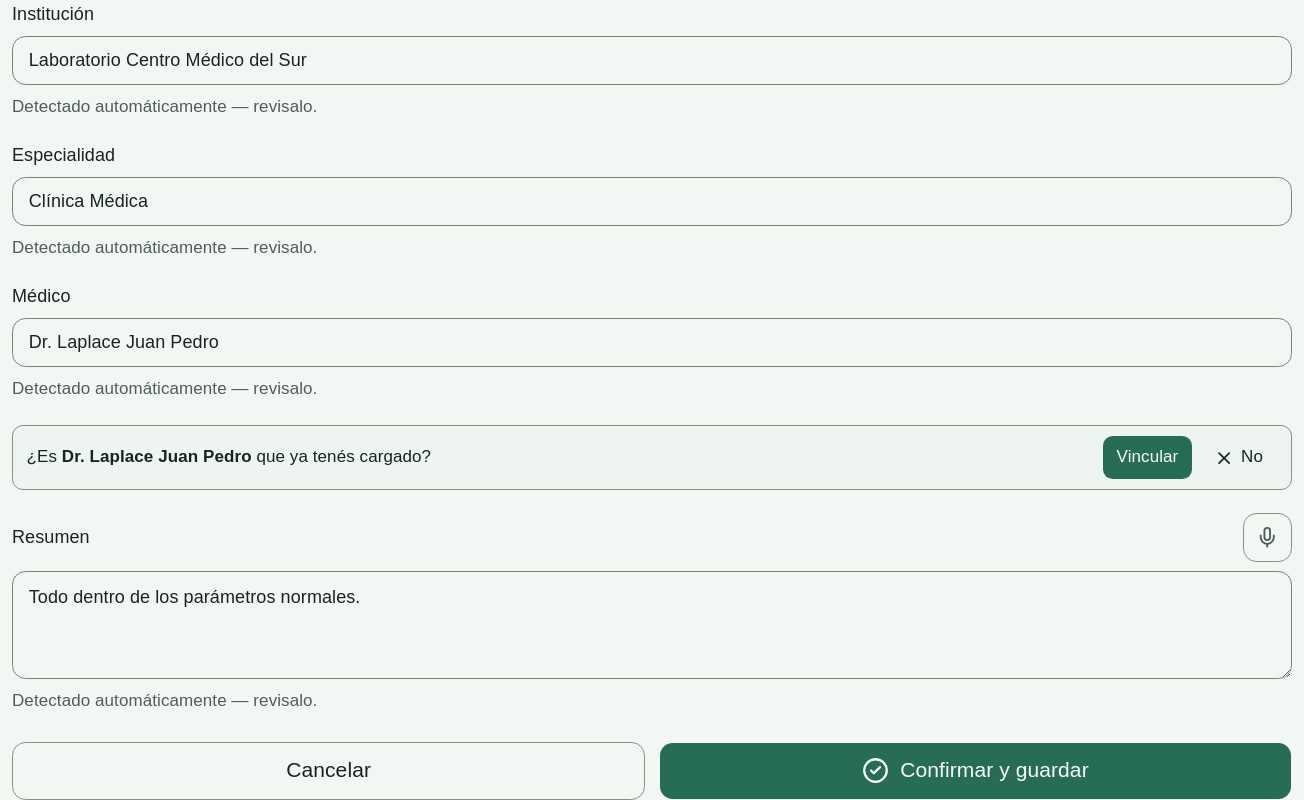
Test: FormularioRevision — «Vincular» tiene que hacer algo visible › con el nombre extraído IDÉNTICO al del directorio (el caso roto), vincular reemplaza la franja por la confirmación
(page scrolled)
Expected: the text "¿Es Dr. Laplace Juan Pedro que ya tenés cargado?" is shown, x1=26 y1=448 x2=431 y2=466
Click the button "Vincular".
click(1148, 458)  # box x1=1102 y1=435 x2=1193 y2=480
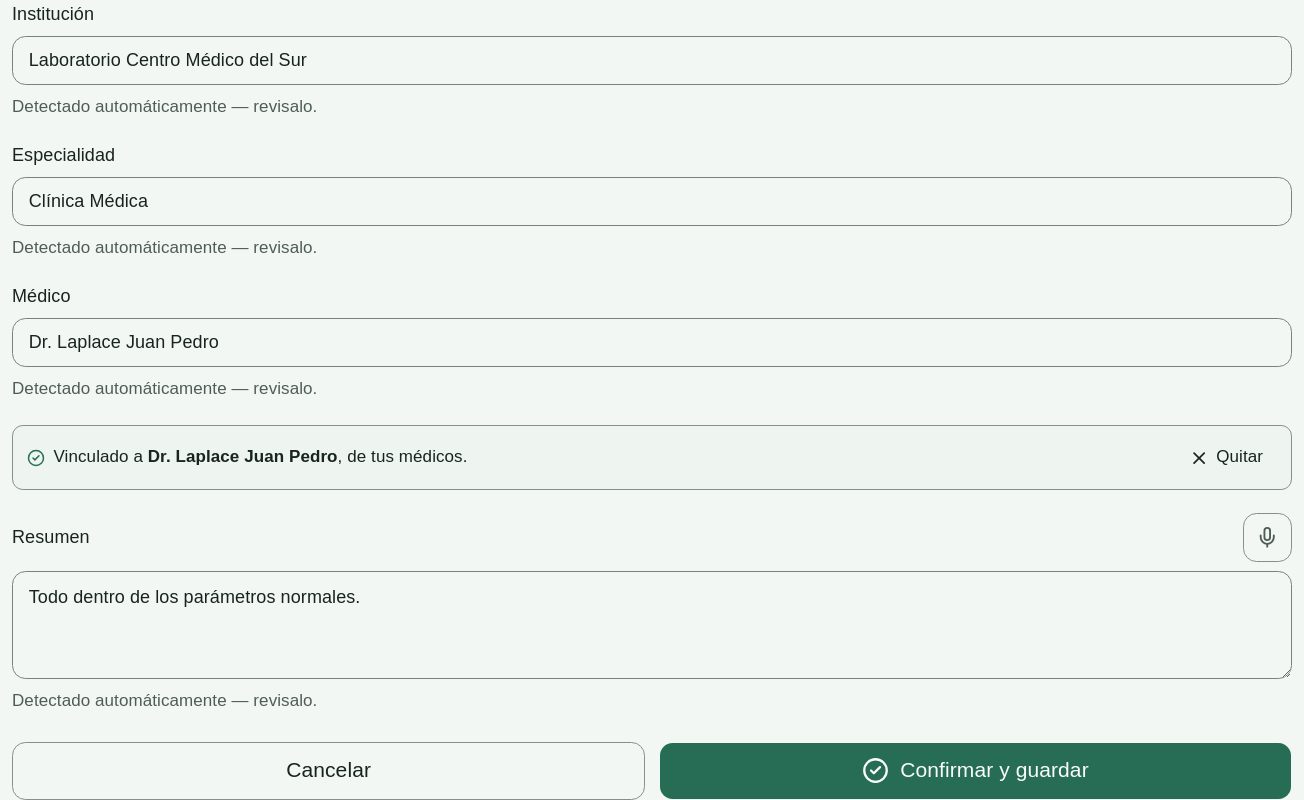
Expected: the text "Dr. Laplace Juan Pedro" is shown, x1=148 y1=448 x2=338 y2=466
Expected: the text "que ya tenés cargado" is gone
Expected: the text "Vinculado a Dr. Laplace Juan Pedro, de tus médicos." is shown, x1=54 y1=444 x2=468 y2=471
